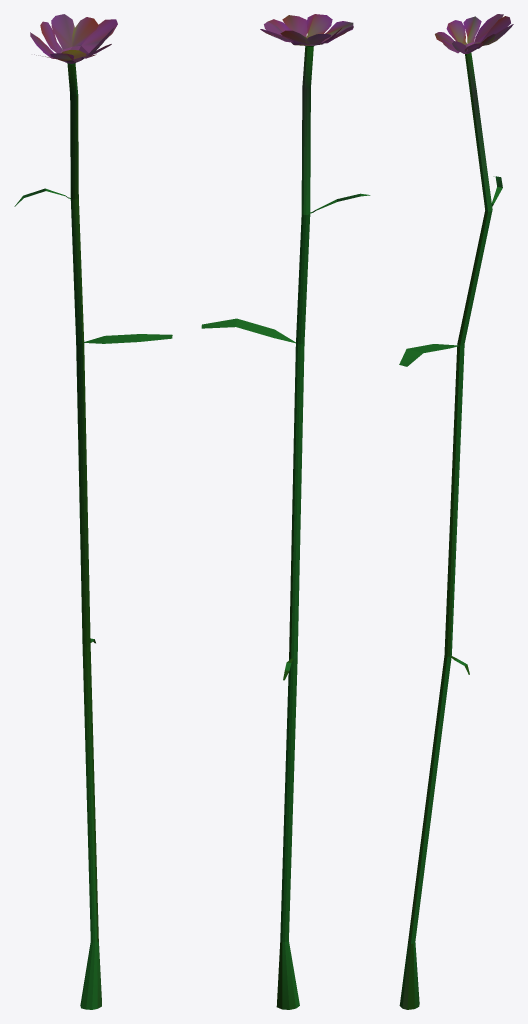
3 views of the same model, side by side, from view 1: azimuth 30°, elevation 25°; view 2: azimuth 210°, elevation 25°; view 3: azimuth 270°, elevation 25° (orthographic). The views are drawn at different scales.
Visible parts, largest first — view 1: bl; view 2: bl; view 3: bl.
Boxes of the visible parts, x1,y1,x2,y2 form: bl: (14, 14, 172, 1009); bl: (201, 14, 370, 1009); bl: (399, 14, 513, 1009).
Size of the model in its own units: 91.34 by 708 by 74.44.
